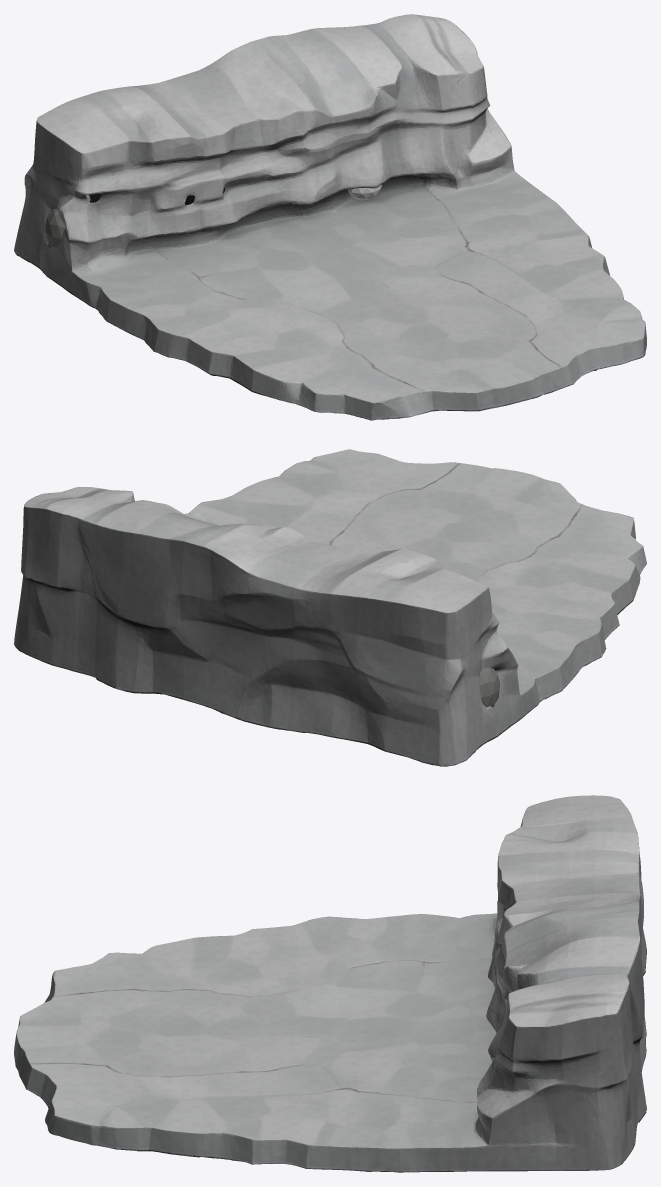
3 renders of one model, top to bottom at view 1: azimuth 30°, elevation 25°; view 2: azimuth 150°, elevation 25°; view 3: azimuth 270°, elevation 25°, orthographic. The views are drawn at different scales.
Parts seen in each view (by area): view 1: world; view 2: world; view 3: world.
Boxes of the visible parts, bbox=[...] form: world: bbox=[14, 14, 646, 420]; world: bbox=[14, 449, 646, 766]; world: bbox=[14, 795, 646, 1172].
Size of the model in its own units: 6.2 by 2.07 by 7.
1 material, 1 textured.
